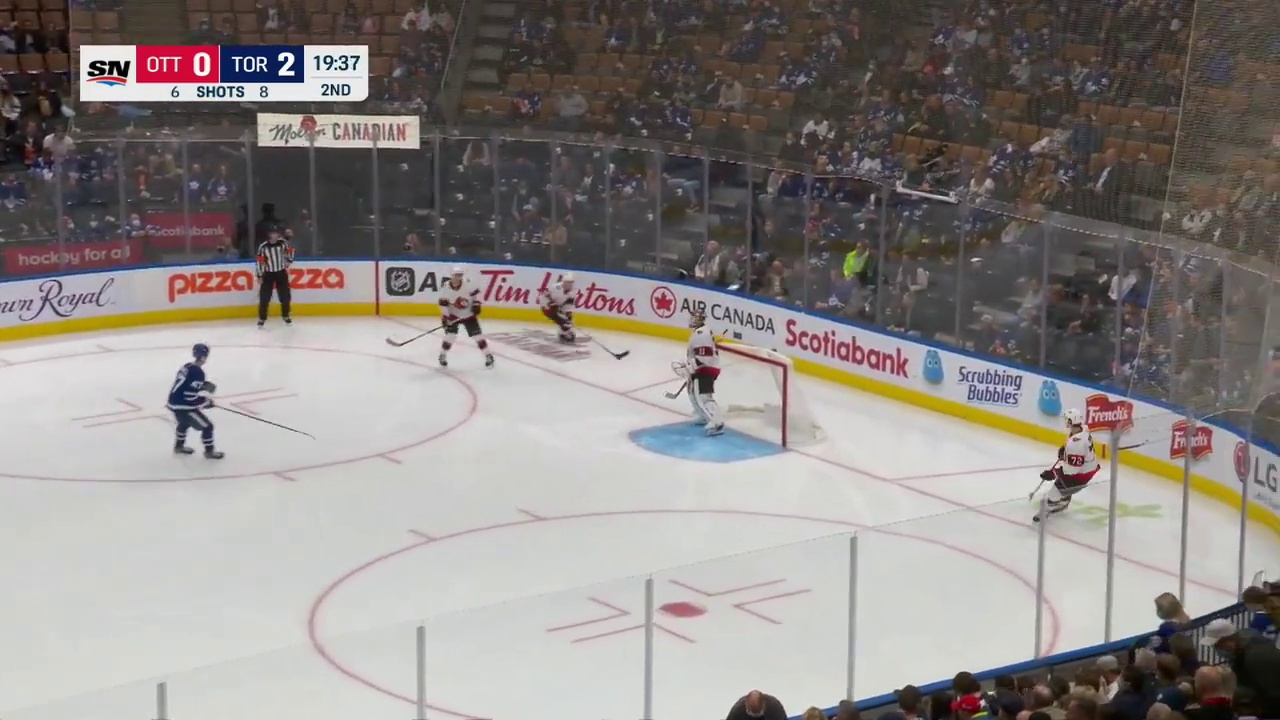goalie: (671, 308, 724, 436)
hockeyplayer: (1034, 408, 1101, 529), (165, 343, 224, 460), (438, 267, 495, 370), (540, 273, 575, 344)
referee: (256, 225, 294, 328)
